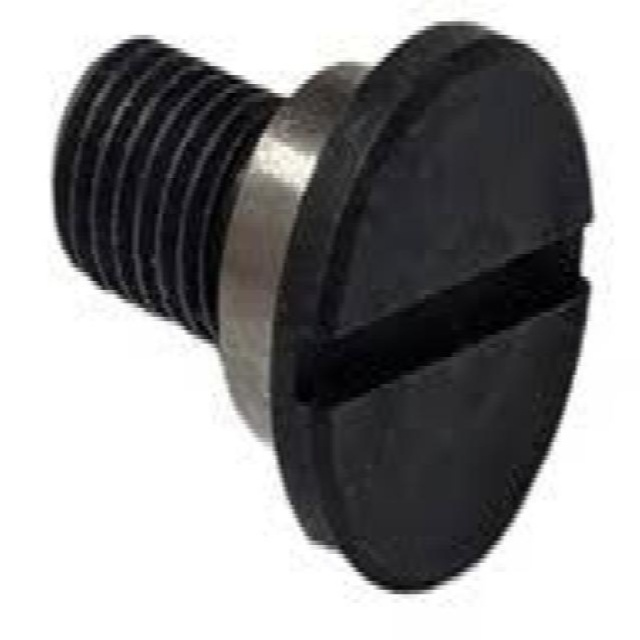duz: (267, 20, 596, 598)
